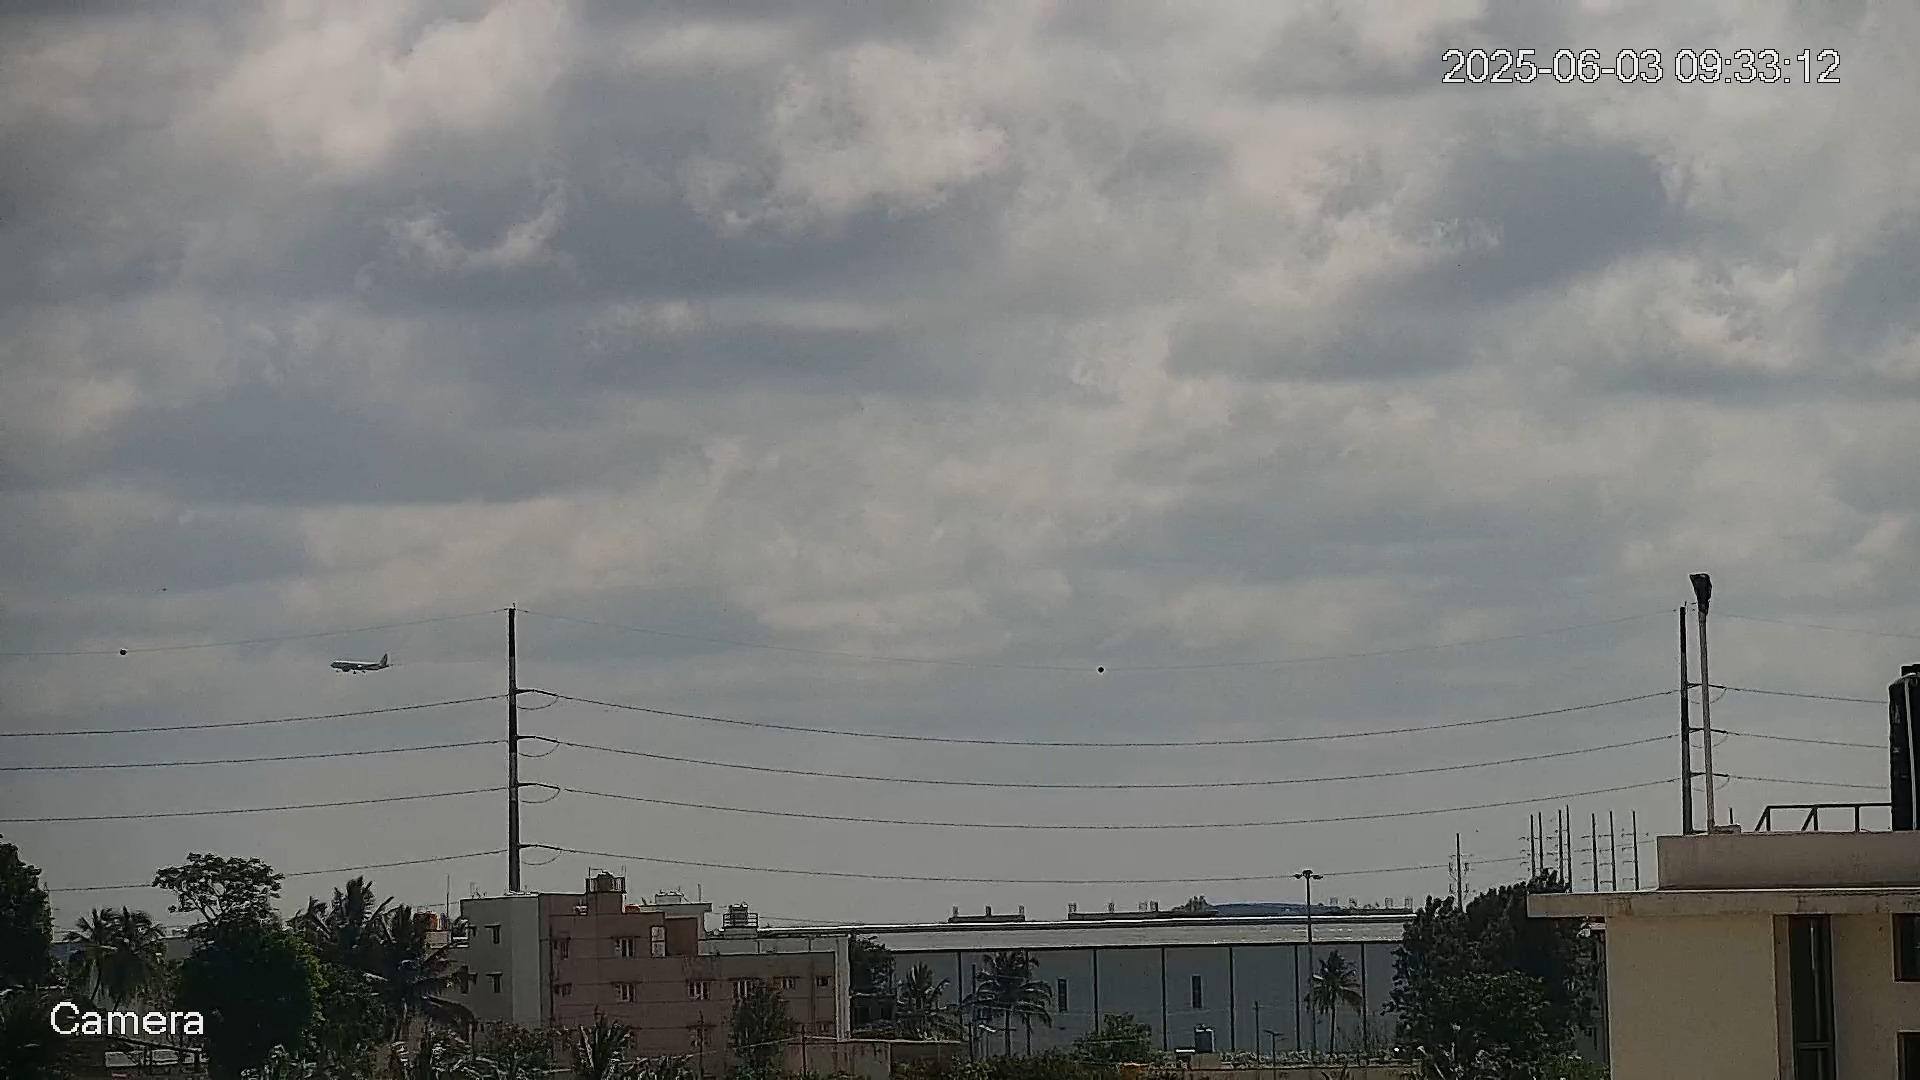Aircraft: (327, 649, 397, 676)
